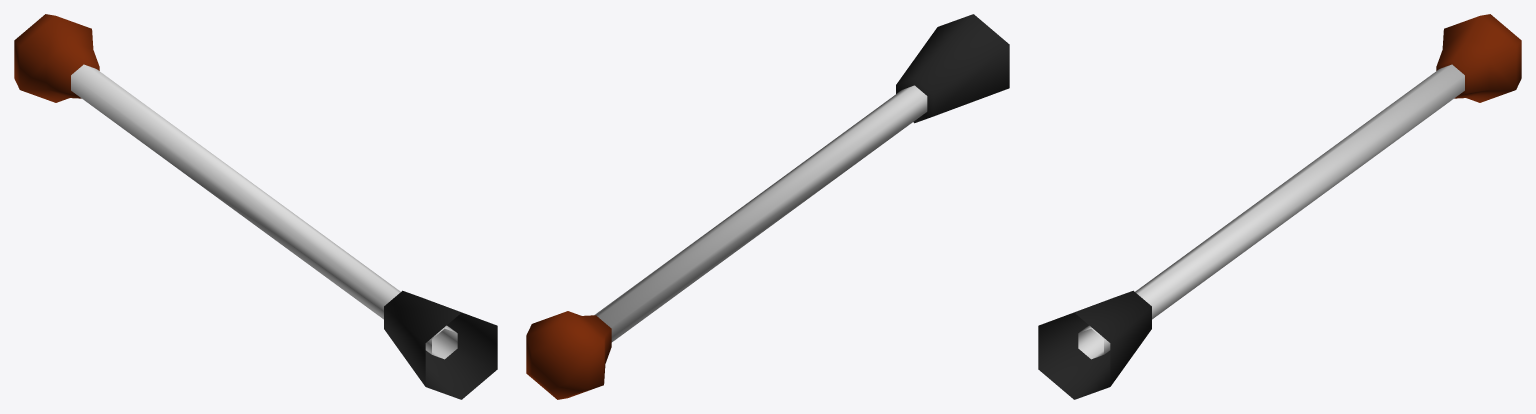
File: VC_Lever_01.fbx
3 views of the same model, side by side, from view 1: azimuth 30°, elevation 25°; view 2: azimuth 150°, elevation 25°; view 3: azimuth 330°, elevation 25° (orthographic).
Parts seen in each view (by area): view 1: VC_Lever_low; view 2: VC_Lever_low; view 3: VC_Lever_low.
Boxes of the visible parts, x1,y1,x2,y2 form: VC_Lever_low: (14,14,497,399); VC_Lever_low: (526,14,1009,399); VC_Lever_low: (1038,14,1521,399).
Bounding box in the file's own units: 0.0497 × 0.0574 × 0.5049.
